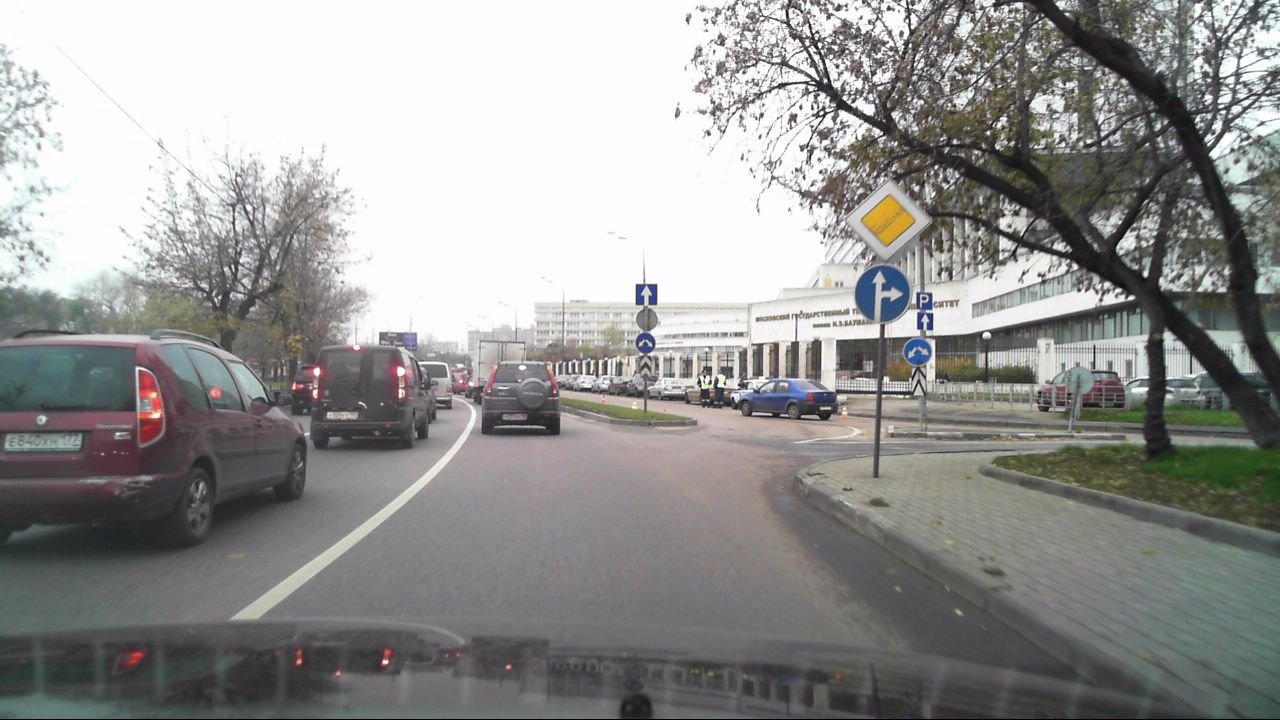main road: (843, 179, 932, 261)
